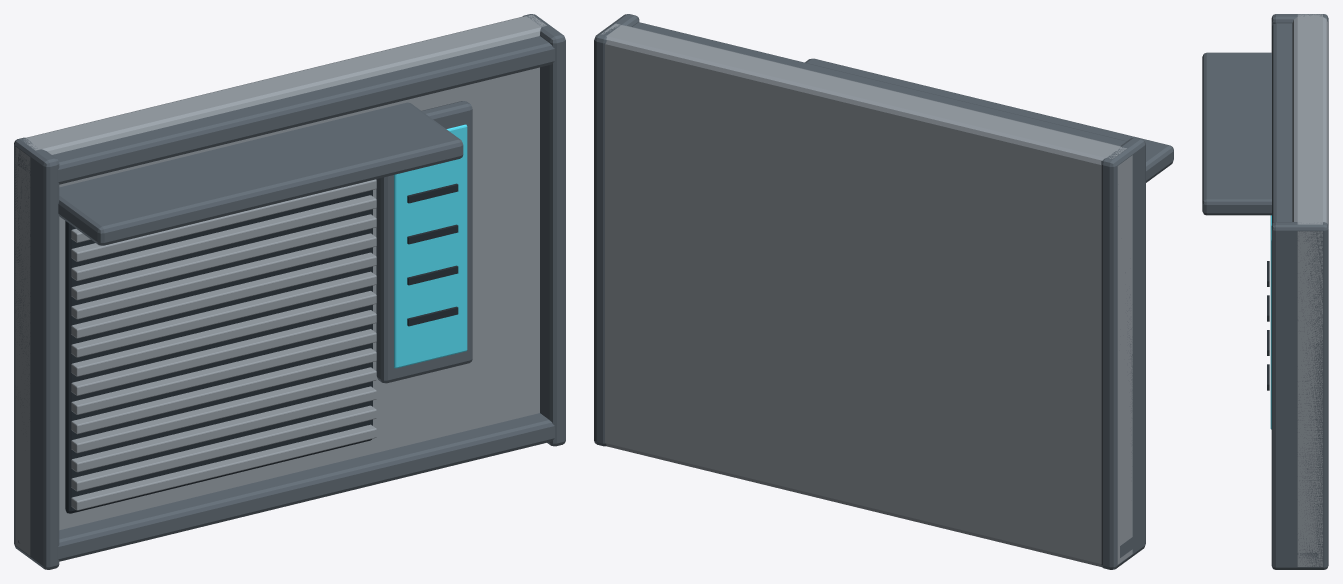
The model's file is 0_Wall.fbx.
The picture shows the model from 3 angles, left to right: view 1: azimuth 30°, elevation 25°; view 2: azimuth 150°, elevation 25°; view 3: azimuth 270°, elevation 25°; orthographic projection. The views are drawn at different scales.
Visible parts, largest first — view 1: Body; view 2: Body; view 3: Body.
Boxes of the visible parts, x1,y1,x2,y2 form: Body: [14, 14, 565, 569]; Body: [594, 14, 1173, 569]; Body: [1202, 14, 1328, 569].
Size of the model in its own units: 4 by 3 by 0.995.
